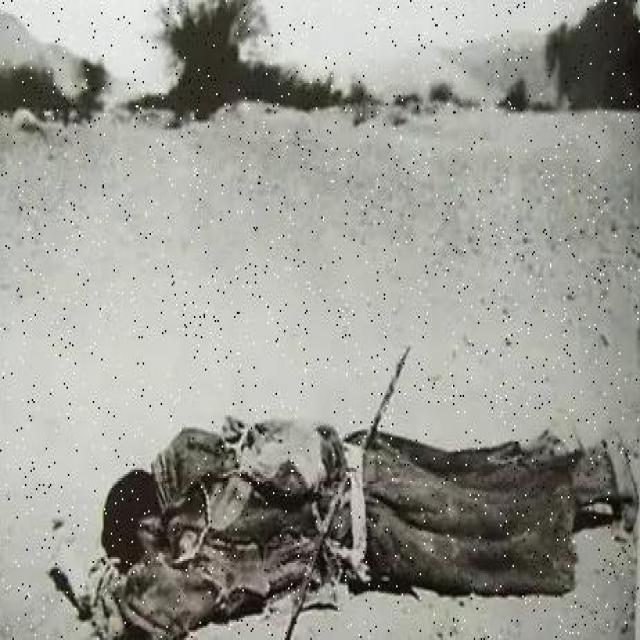fall: (95, 395, 620, 603)
